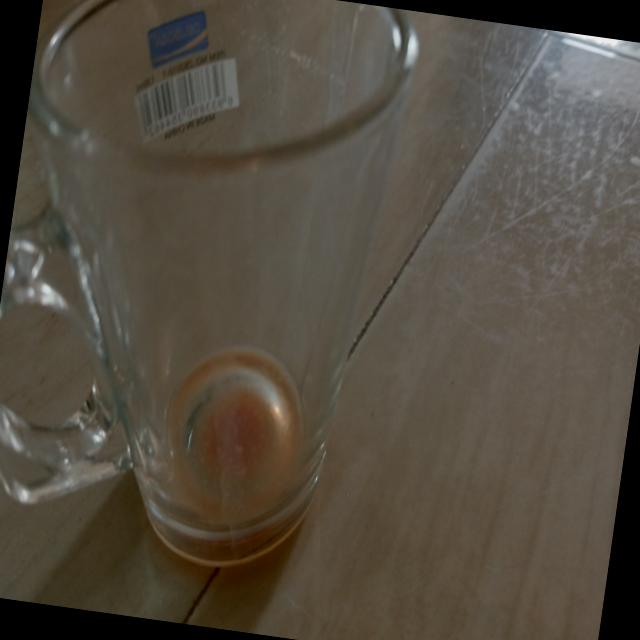glass-VX4N: (0, 0, 424, 585)
